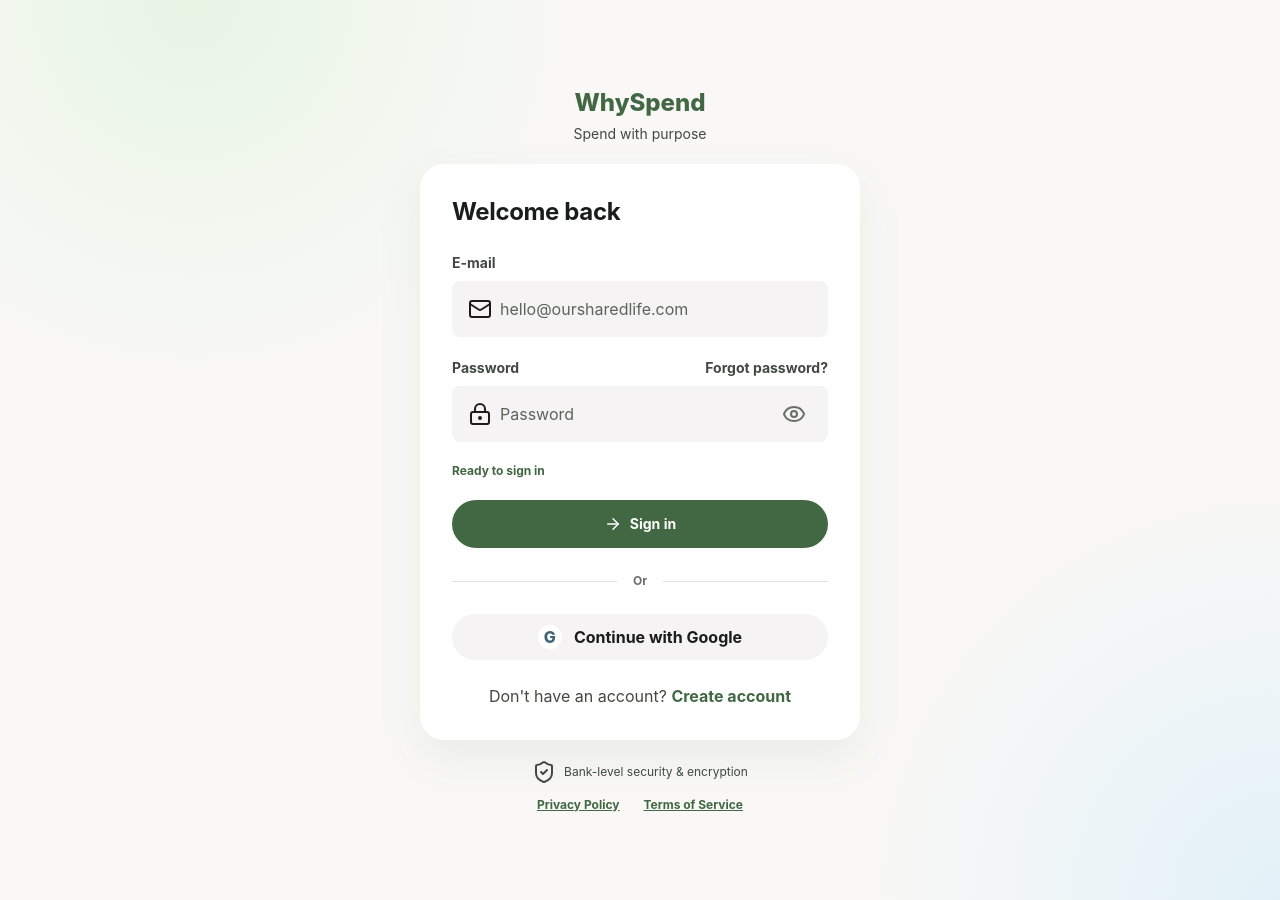
Scenario: password recovery › validates the reset email and does not expose provider errors
The image size is (1280, 900).
Click the button "Forgot password?" at (767, 367), box [705,356,828,378]
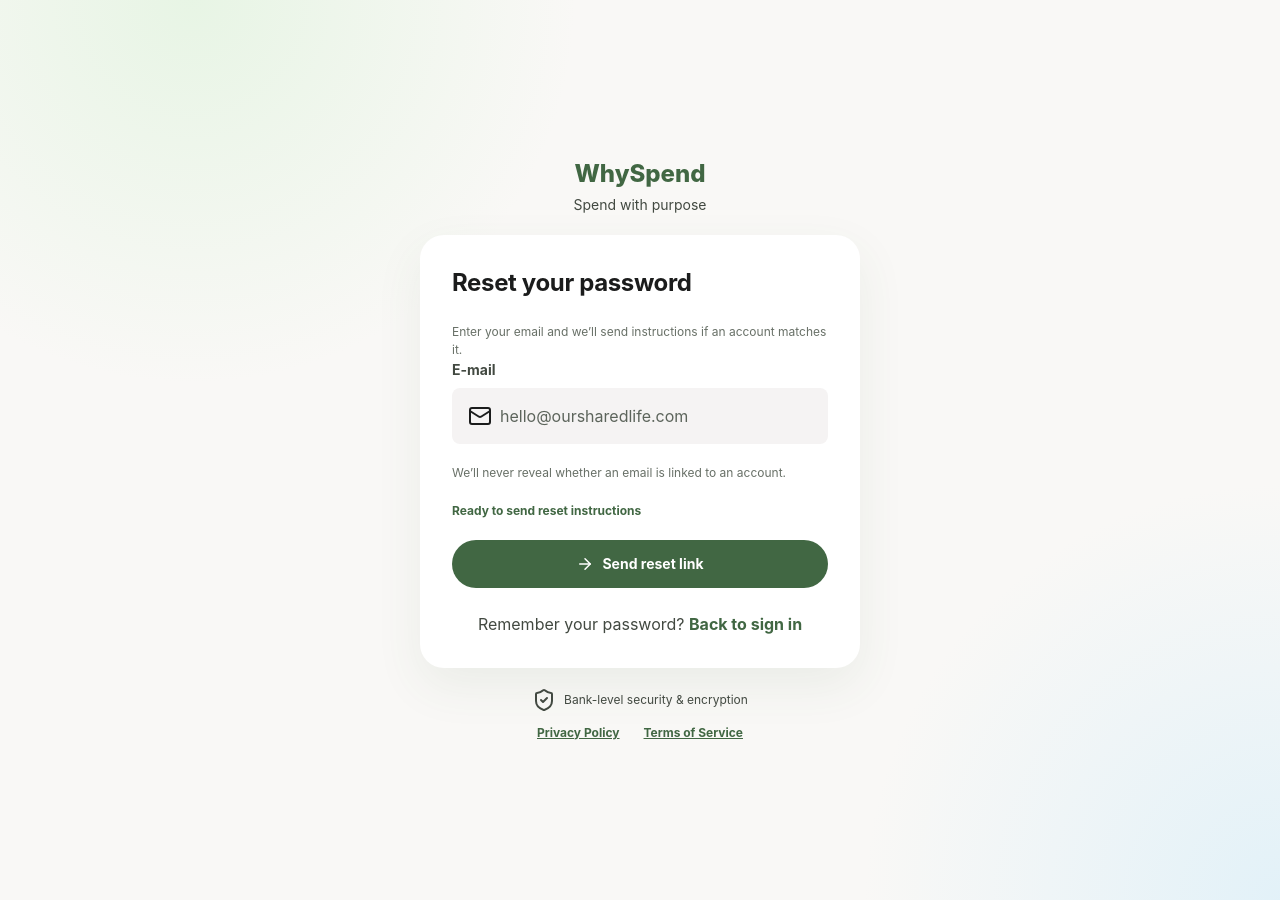
Type "not-an-email" into the field labelled "E-mail" at (650, 416), box [500,388,800,444]
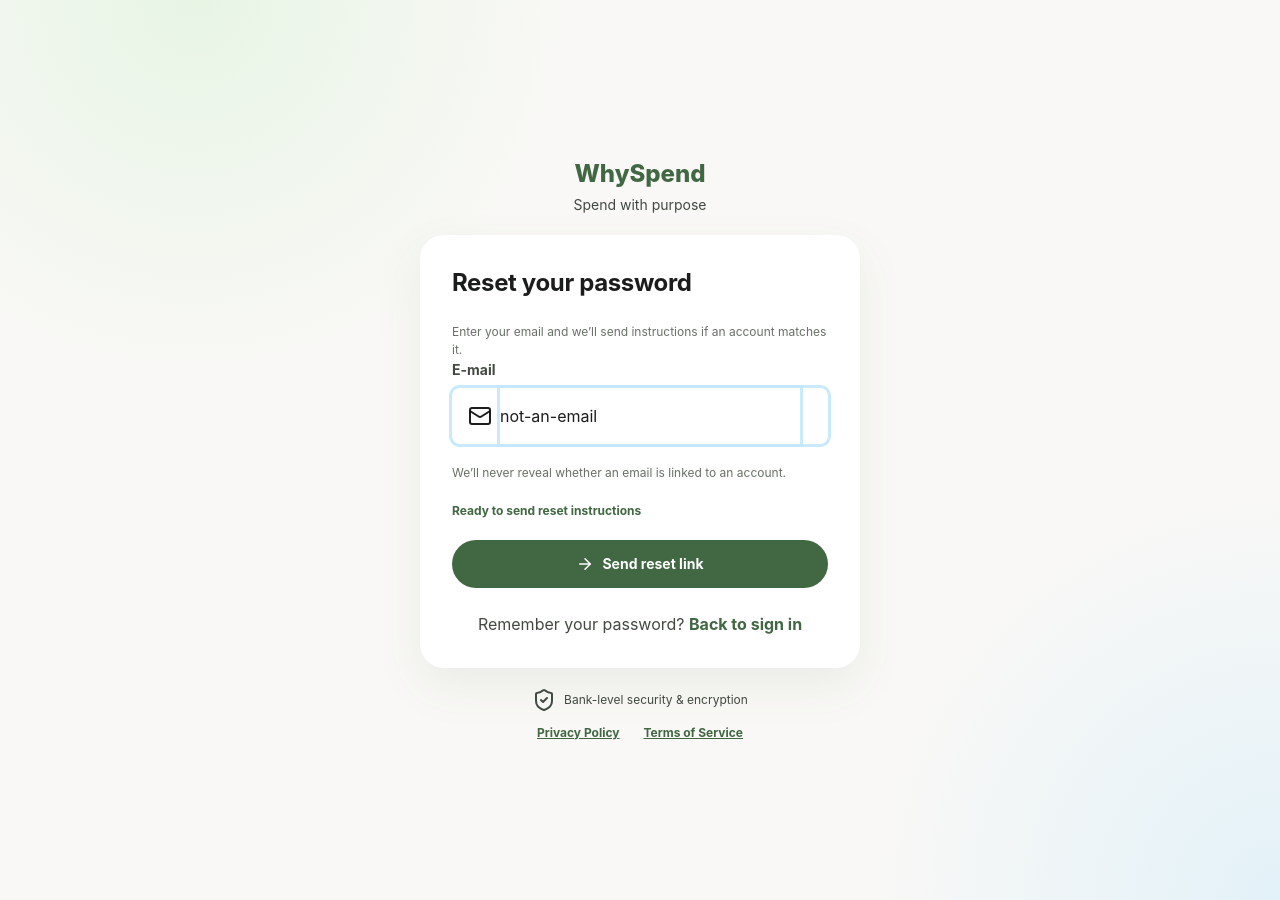
Click the button "Send reset link" at (640, 564), box [452,540,828,588]
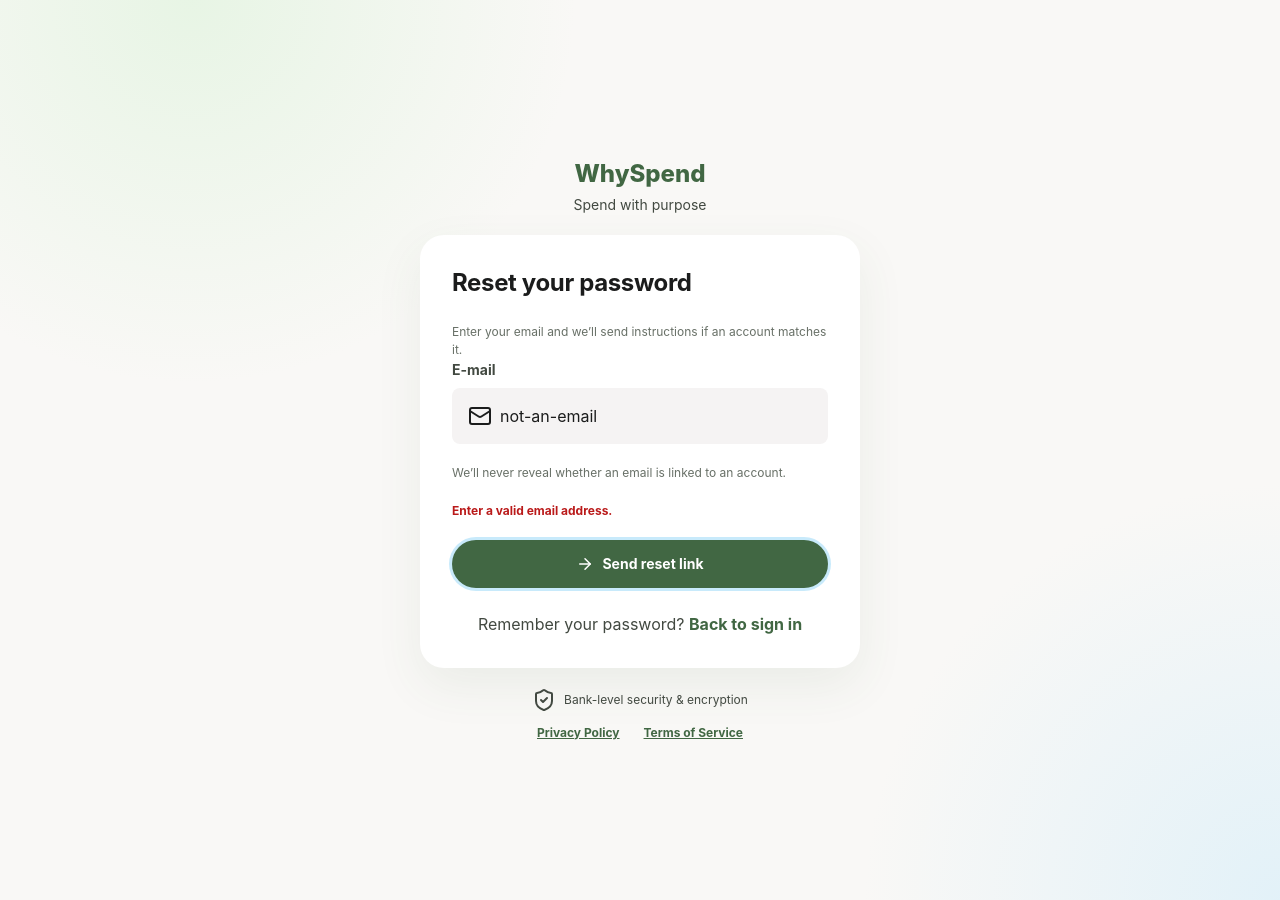
Now the text "Enter a valid email address." is shown, box [452,503,612,518]
Replace the text in the field labelled "E-mail" with "person@example.com" at (650, 416), box [500,388,800,444]
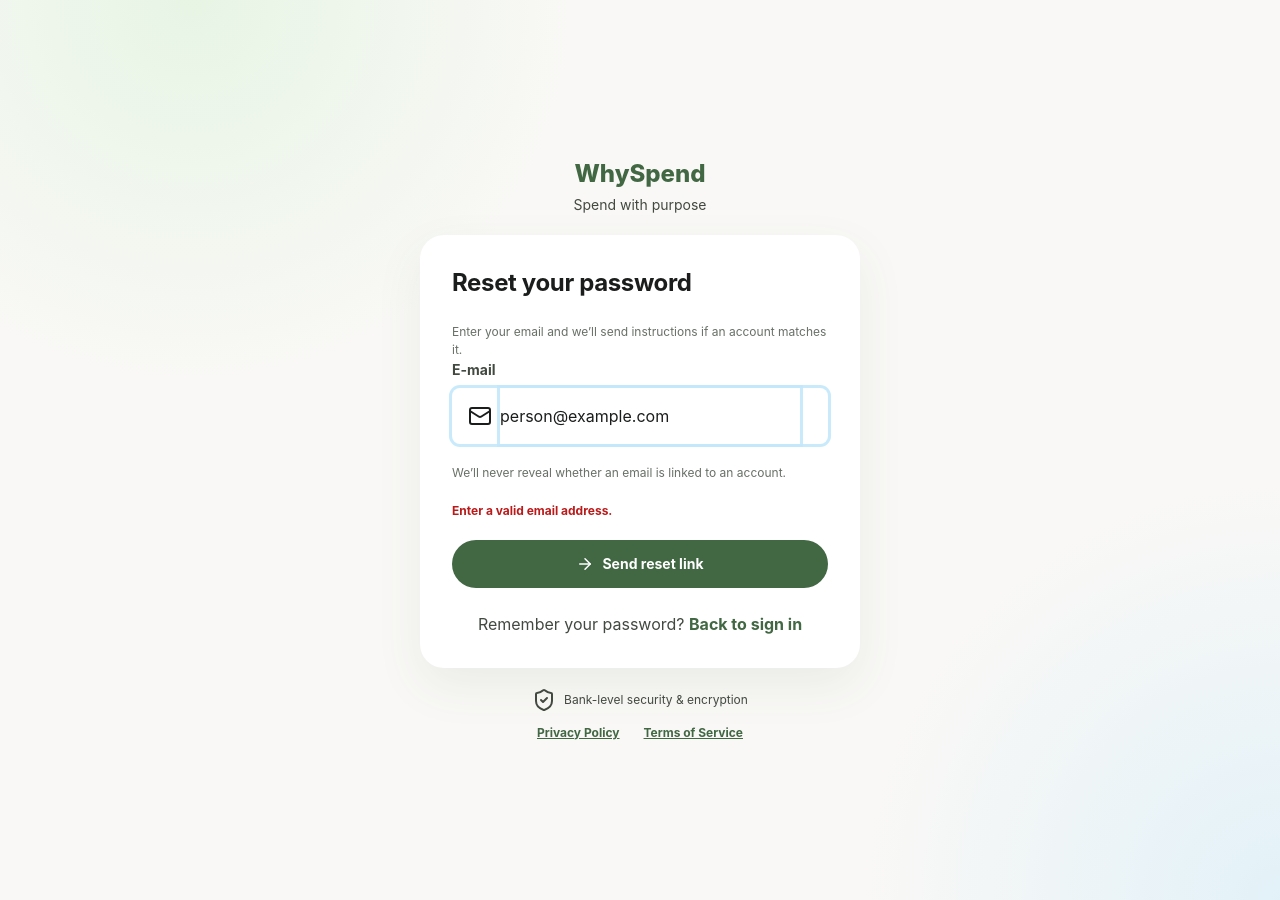
Click the button "Send reset link" at (640, 564), box [452,540,828,588]
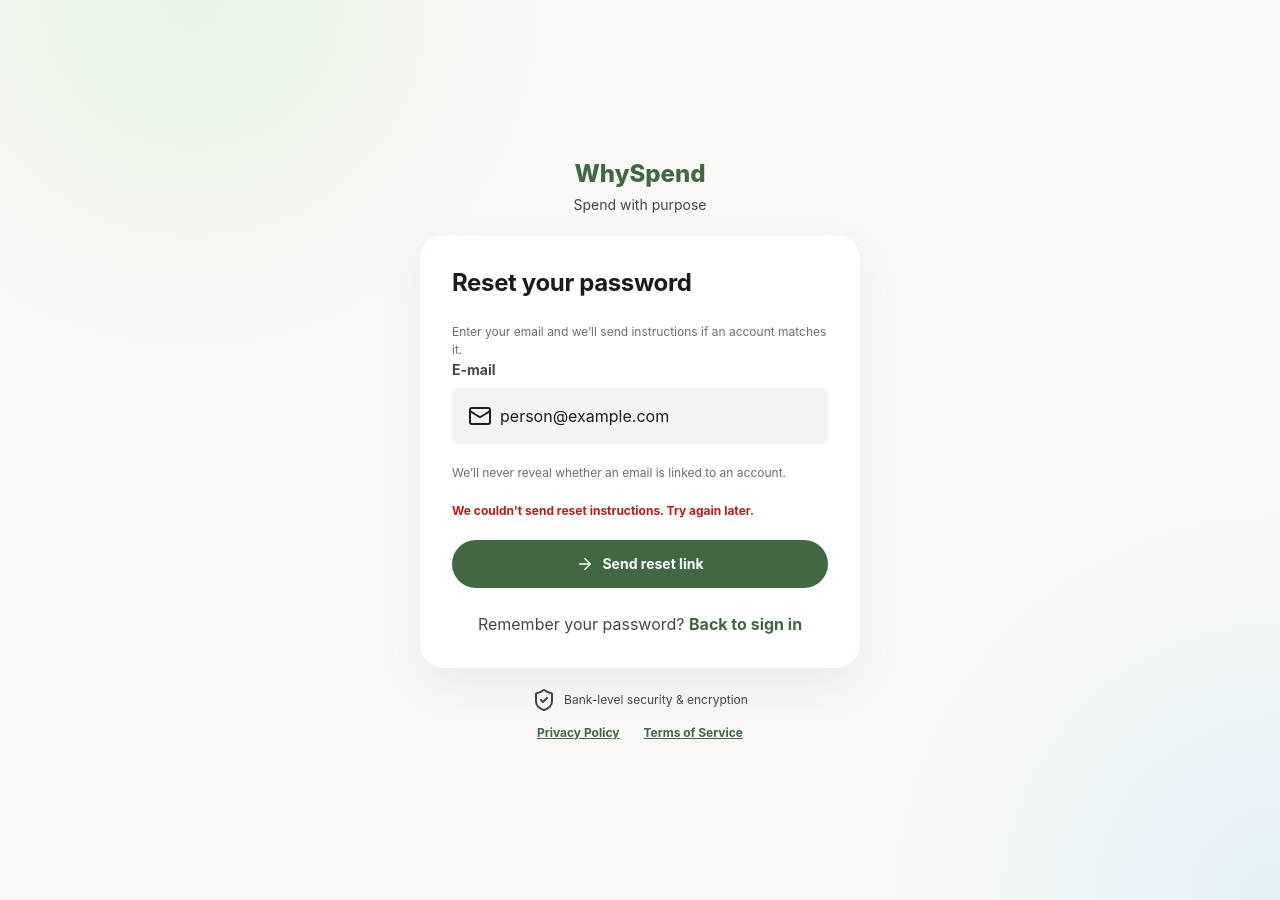
Now the text "We couldn't send reset instructions. Try again later." is shown, box [452,503,754,518]
